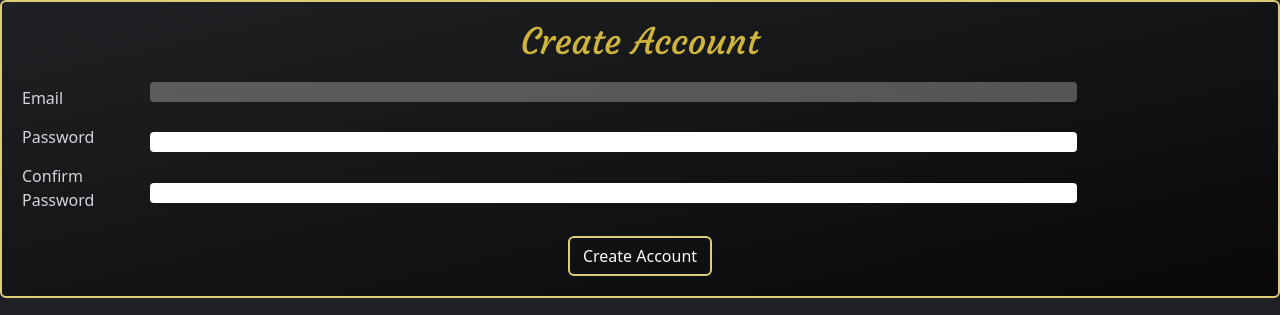
Scenario: Create Account Form › should render correct error alerts when form is submitted and all fields are empty
Click the button "Create Account" at x=640, y=256, box [568,236,712,276]
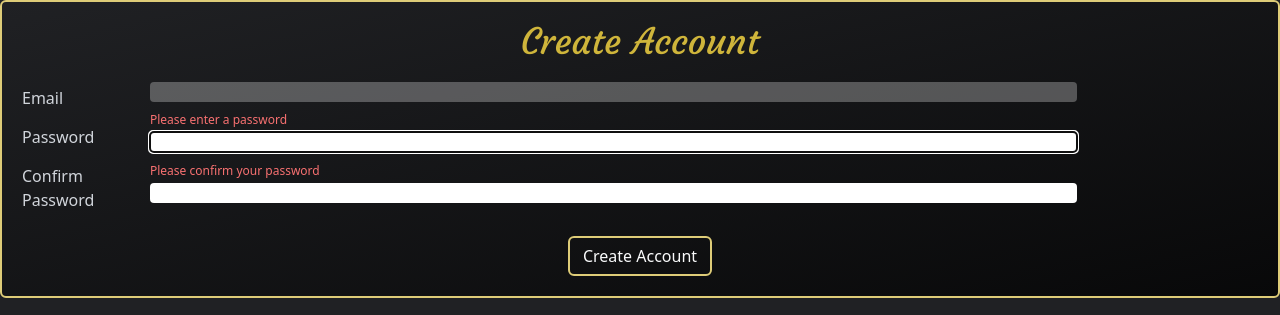
Expected: the text "Please enter a password" is shown, [150,111,287,128]
Expected: the text "Please confirm your password" is shown, [150,162,320,179]
